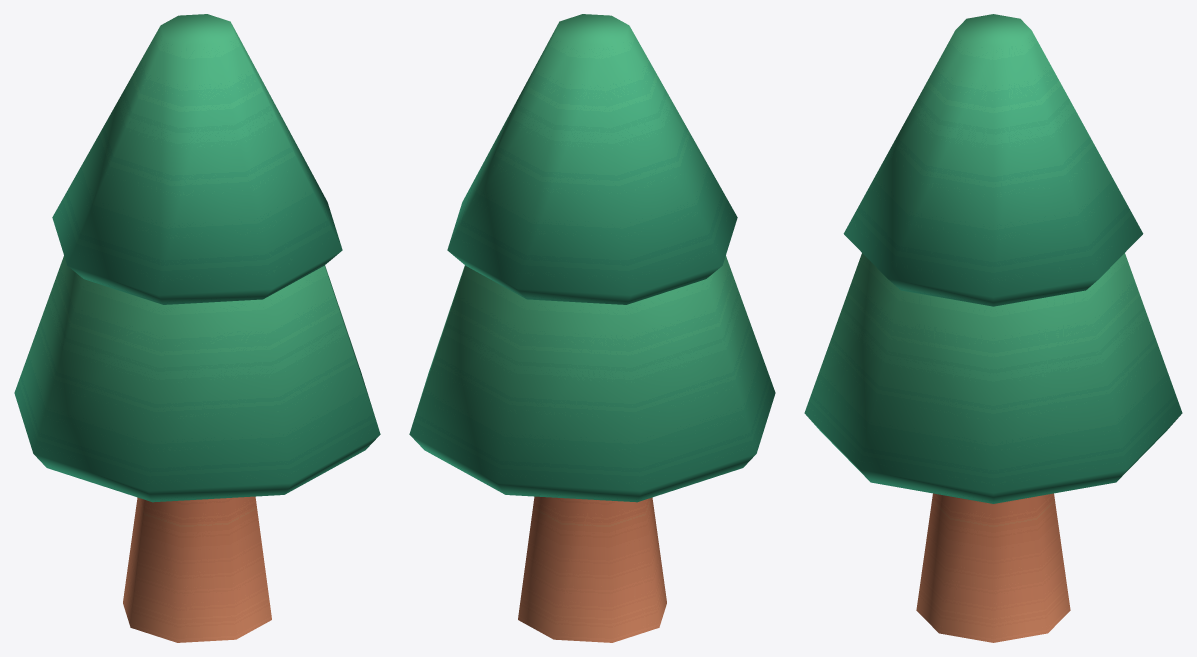
The model's file is tree.glb.
3 renders of one model, left to right at view 1: azimuth 30°, elevation 25°; view 2: azimuth 150°, elevation 25°; view 3: azimuth 270°, elevation 25°, orthographic.
Parts seen in each view (by area): view 1: tree; view 2: tree; view 3: tree.
Boxes of the visible parts, bbox=[...] form: tree: bbox=[14, 14, 380, 642]; tree: bbox=[409, 14, 775, 642]; tree: bbox=[804, 14, 1182, 642].
Size of the model in its own units: 1.47 by 2.49 by 1.47.
1 material, 1 textured.
